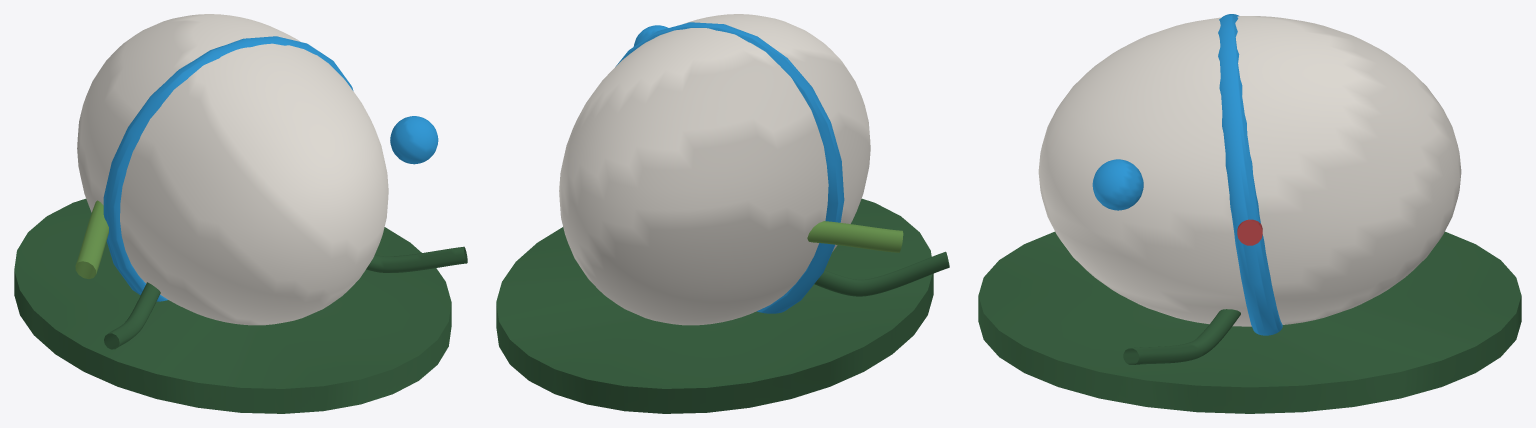
Rendered from 0198_人体图鉴_胎儿.glb.
The picture shows the model from 3 angles, left to right: view 1: azimuth 30°, elevation 25°; view 2: azimuth 150°, elevation 25°; view 3: azimuth 270°, elevation 25°; orthographic projection. The views are drawn at different scales.
Parts seen in each view (by area): view 1: card_0198; view 2: card_0198; view 3: card_0198.
Boxes of the visible parts, box(x1,y1,x2,y2) form: card_0198: box(14, 14, 467, 413); card_0198: box(496, 14, 949, 413); card_0198: box(978, 14, 1521, 413).
Bounding box in the file's own units: 1.34 × 1 × 1.63.
